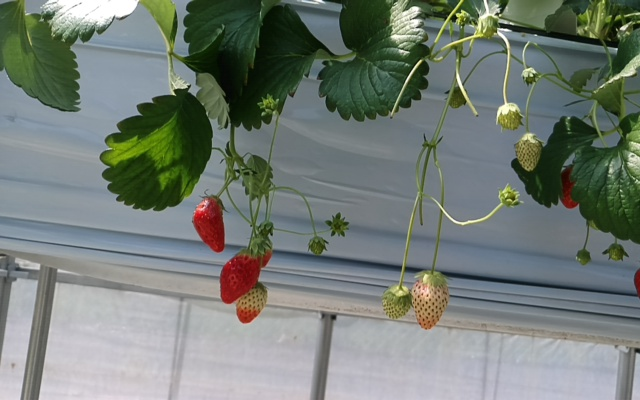GreenStrawberry: (409, 266, 452, 335), (233, 283, 271, 326), (379, 280, 415, 322), (514, 131, 543, 174), (495, 101, 524, 133), (252, 235, 273, 268)
MatureStrawberry: (217, 246, 262, 307), (192, 195, 229, 257), (555, 160, 581, 212)
